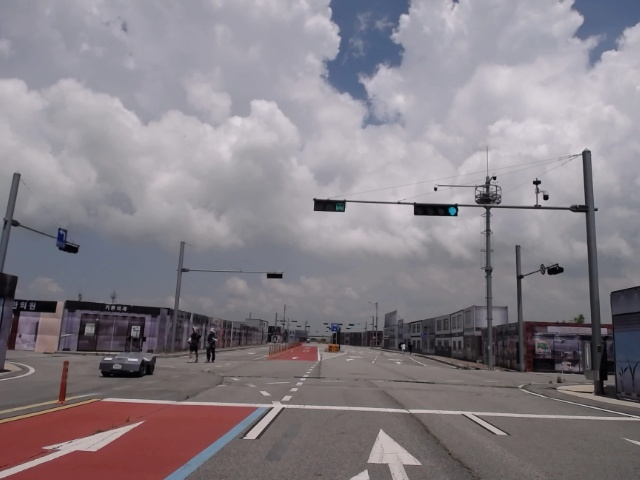straight_green_4: (414, 203, 458, 216)
